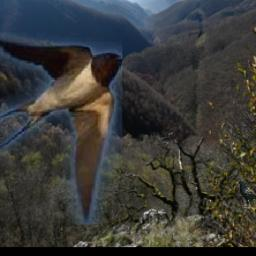Crow: (235, 179, 256, 209)
Swallow: (0, 33, 123, 225)
